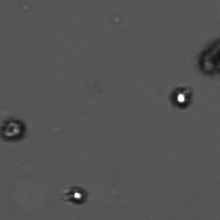Dead Cell: (1, 113, 28, 142)
Living Cell: (167, 82, 196, 111), (56, 181, 88, 206)
